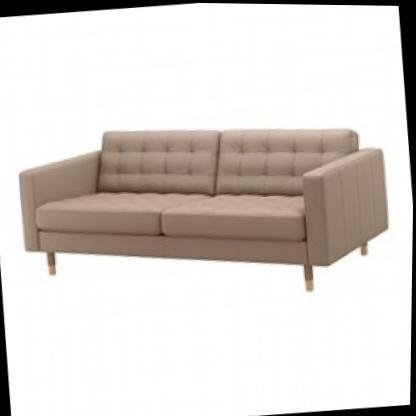Sofa: (7, 85, 397, 319)
